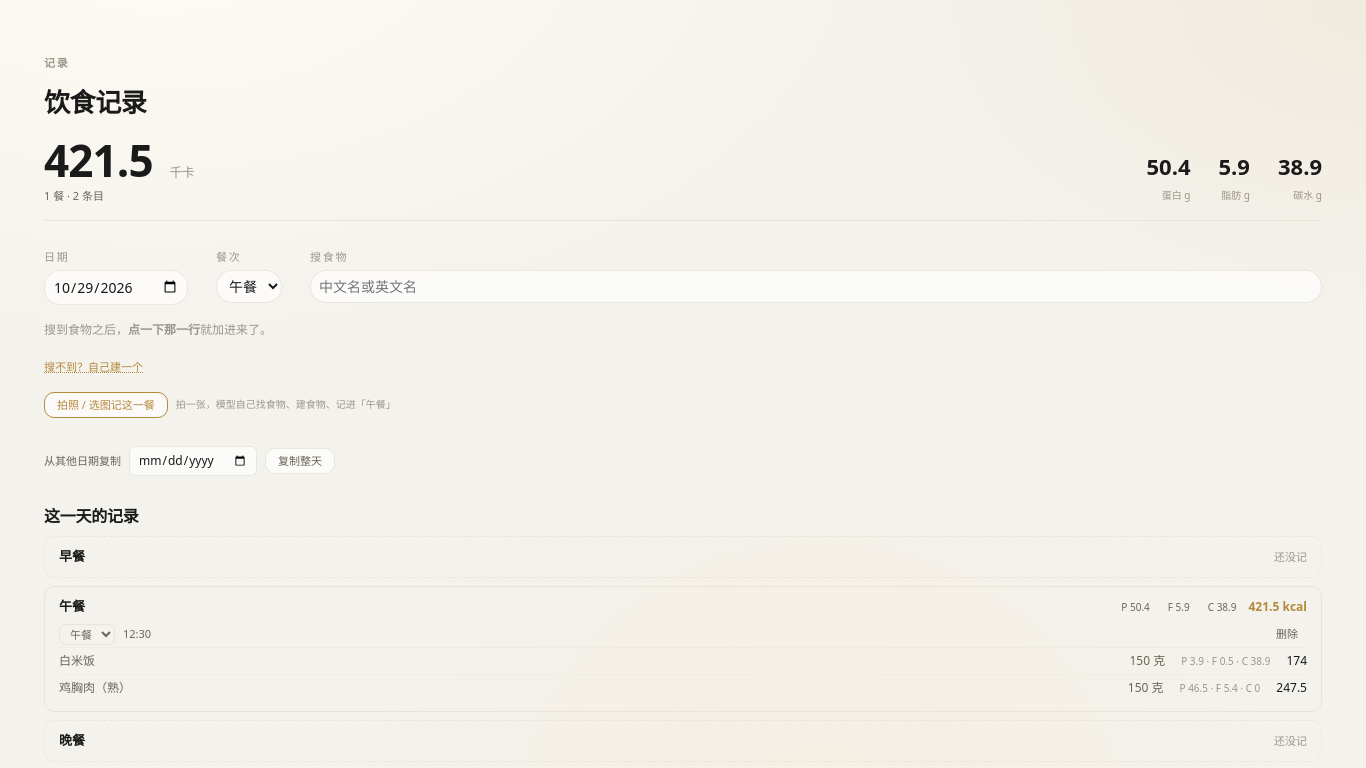
饮食记录页 · 搜食物与加条目 › picking_a_food_adds_a_row_with_a_sensible_default_unit
Type "白米饭" into the search field labelled "搜食物" at coordinates (816, 286), box [310,270,1322,302]
Wait 300 ms
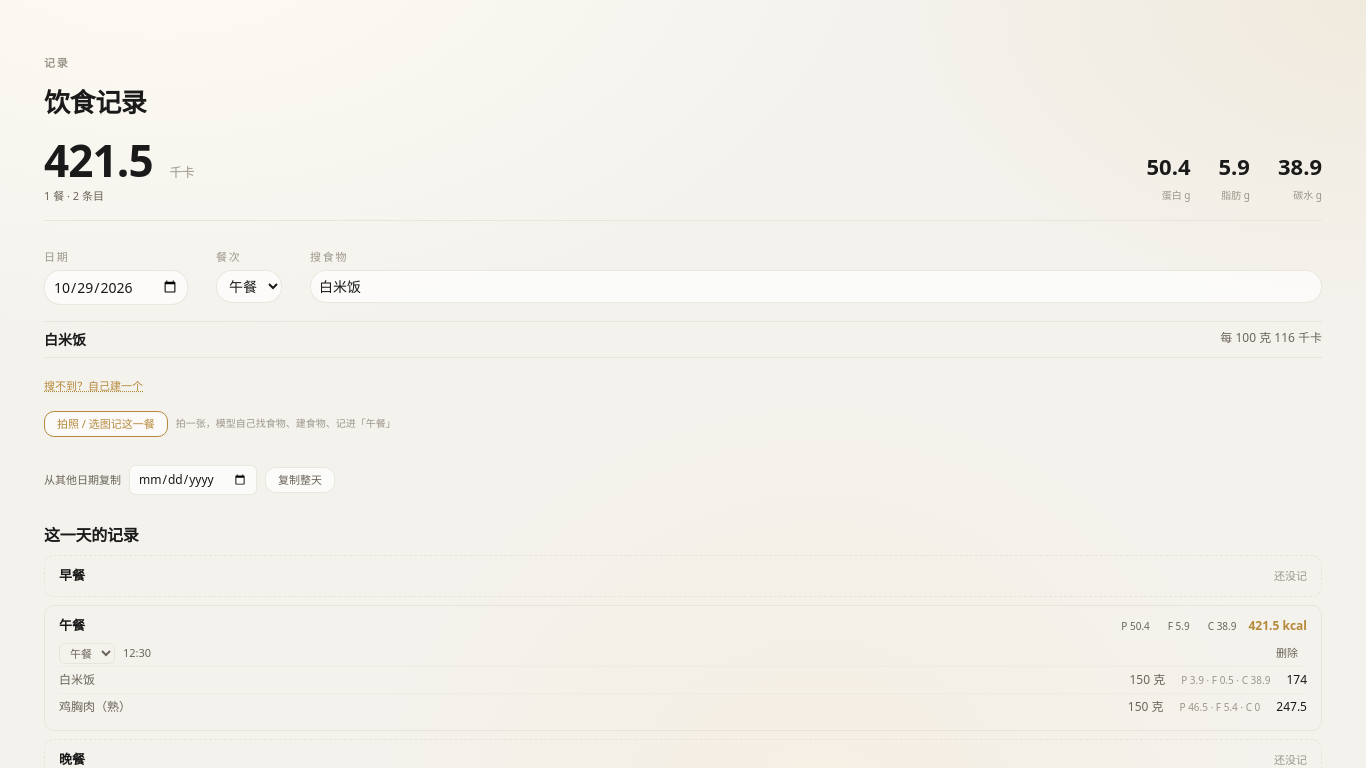
Click the button with class "food" at coordinates (65, 339), box [44,322,1322,358]
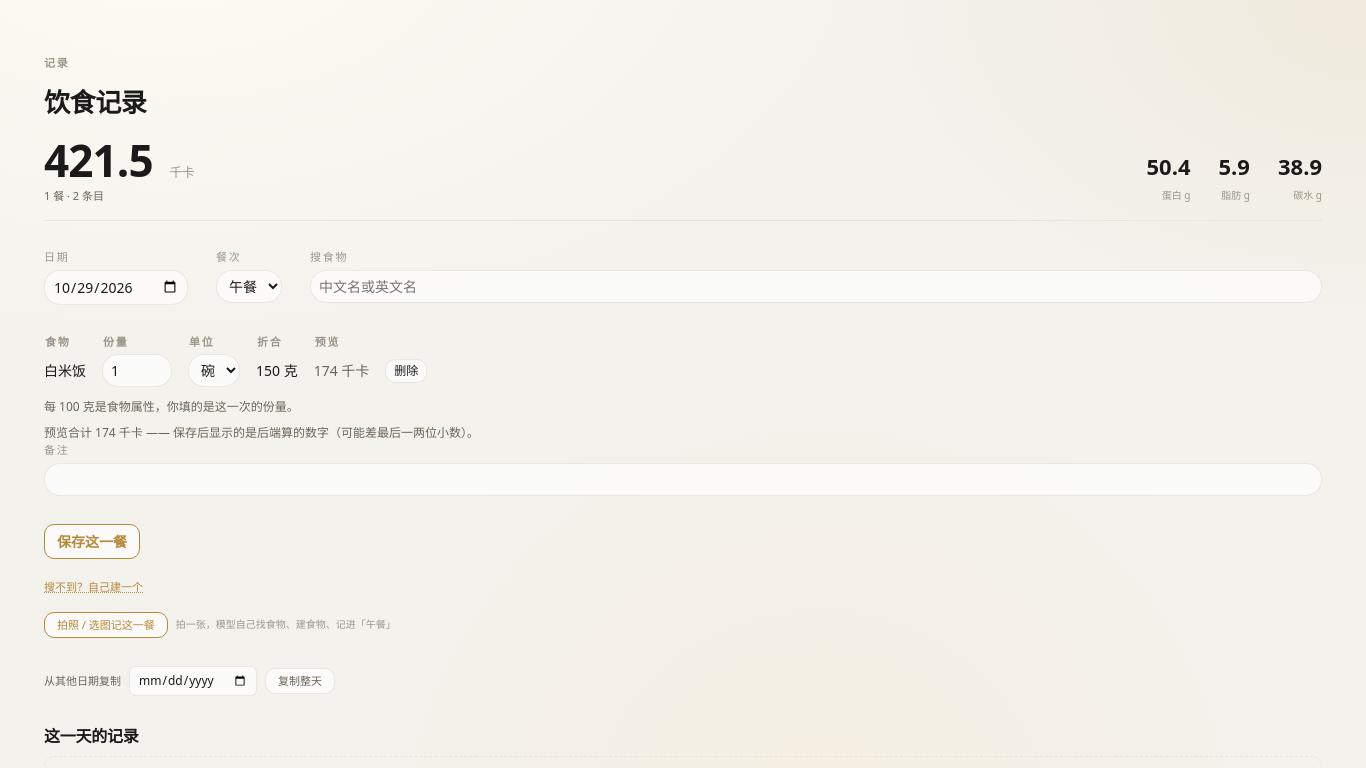
Check: the cell with class "name" reads "白米饭", box [44,361,86,380]
Check: the cell with class "grams" reads "150 克", box [256,361,298,380]
Check: the cell "174 千卡" is shown, box [314,351,385,390]
